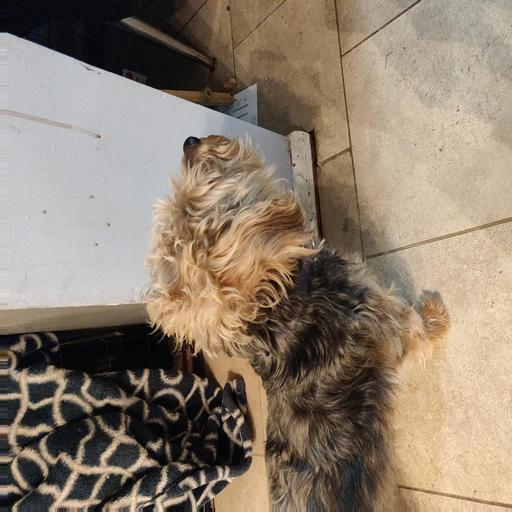dog: (137, 127, 421, 411)
